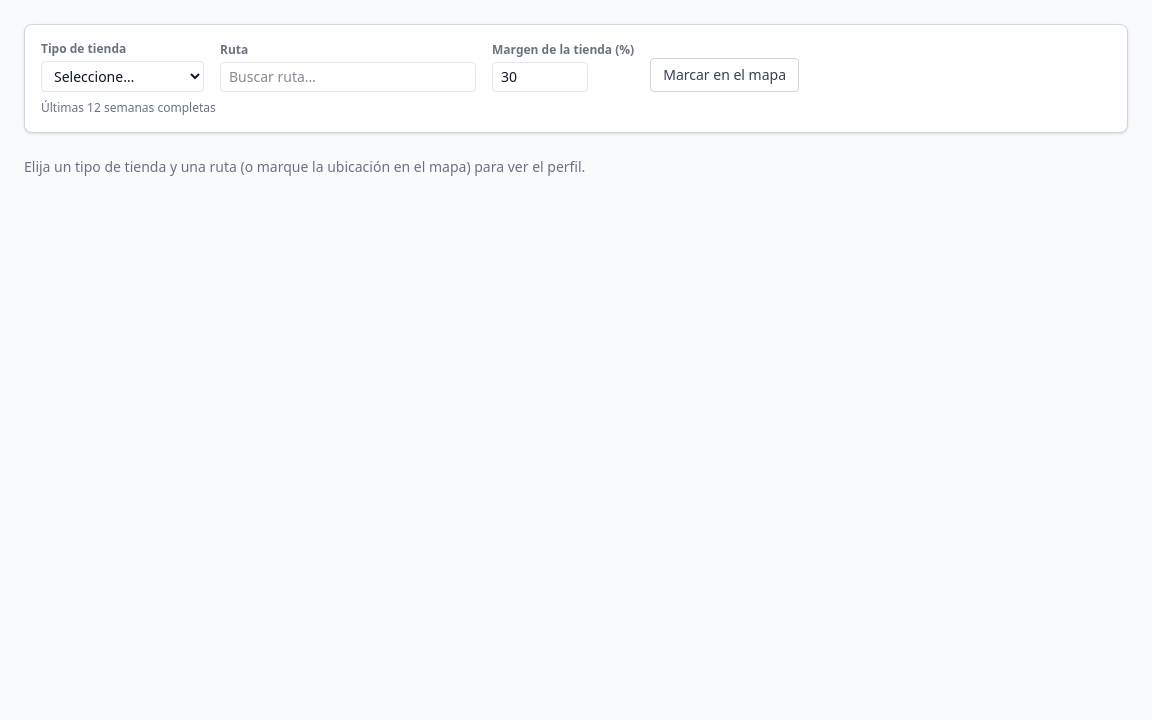
Test case: TabProspecto › shows low-peers, incomplete and no-route banners
Select "Supermercado (12)" in the dropdown labelled "Tipo de tienda" at (122, 76), box [41,61,204,92]
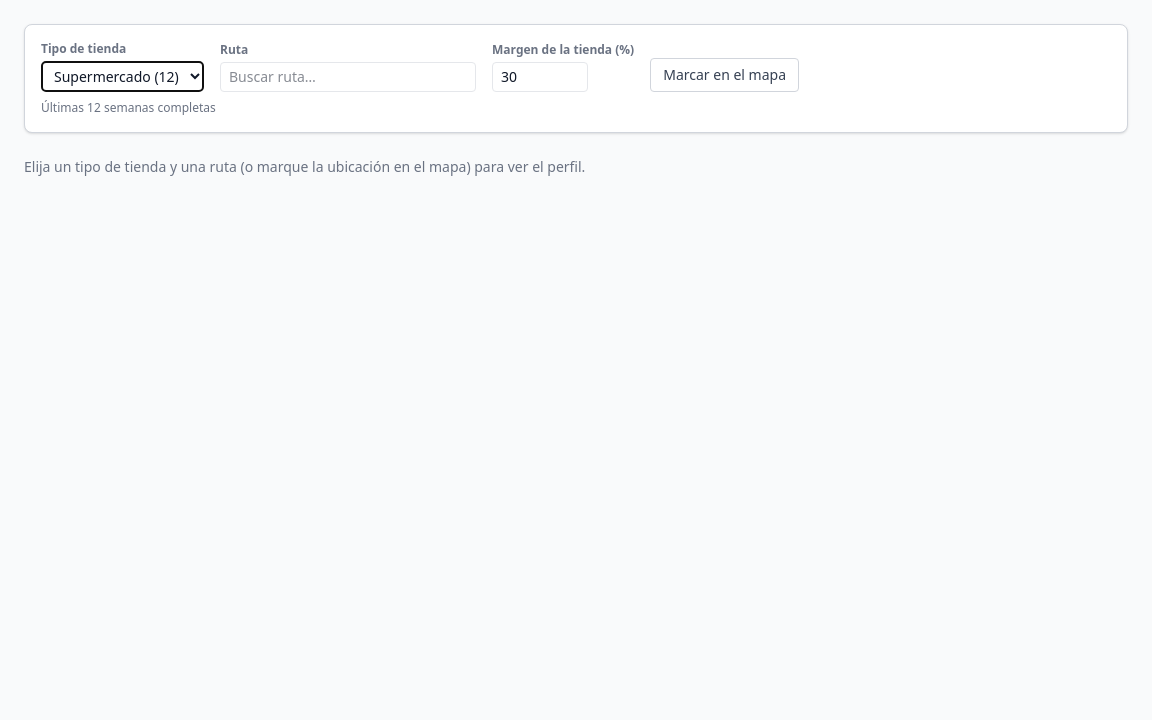
Click the field labelled "ruta" at (348, 77), box [220,62,476,92]
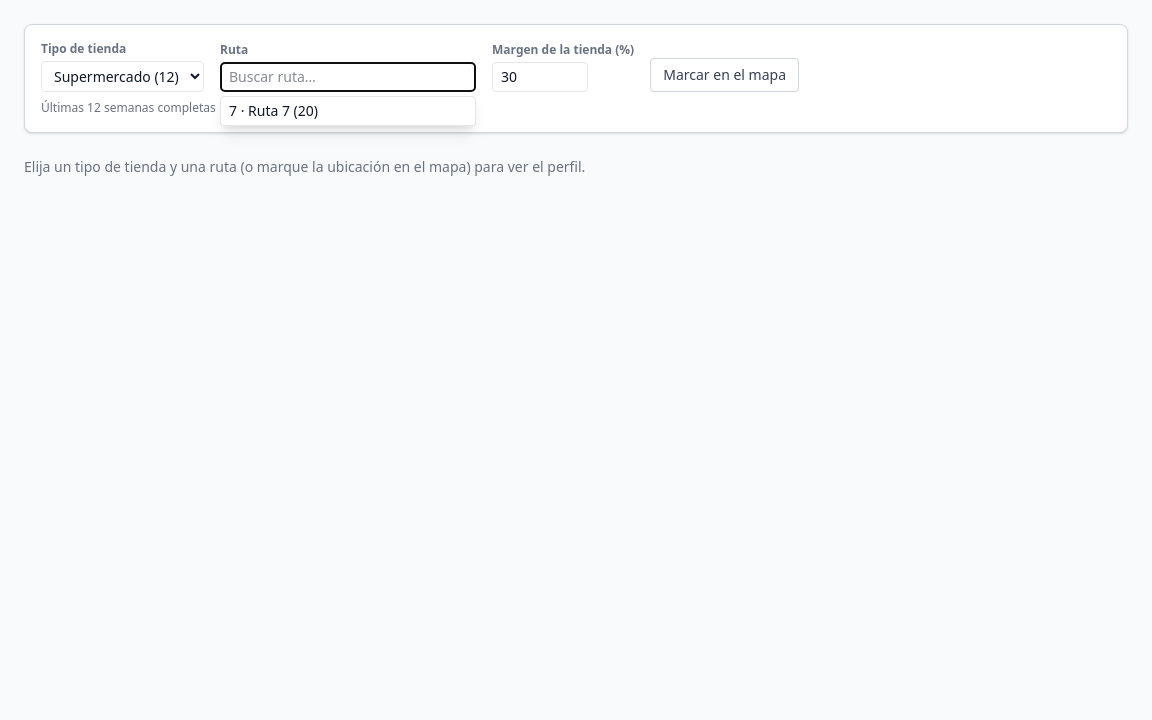
Click the button "7 · Ruta 7 (20)" at (348, 111), box [221,97,475,125]
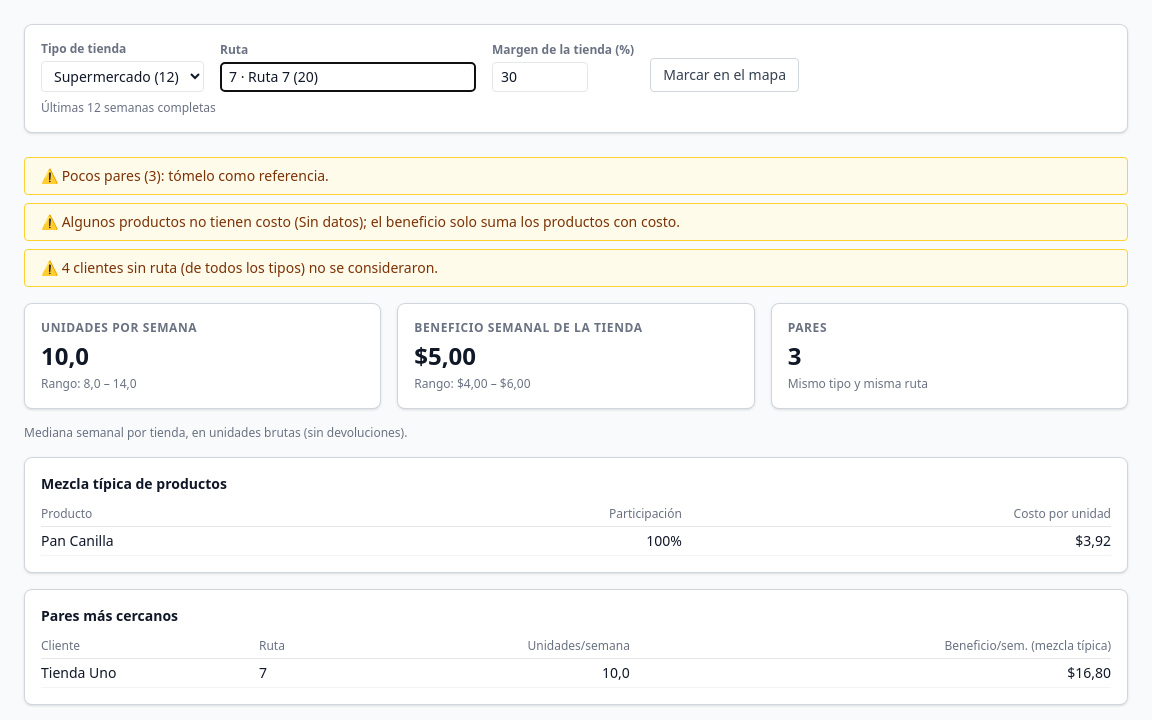
expect the text "⚠ Pocos pares (3): tómelo como referencia." is shown: met, box [24,157,1128,195]
expect the text "Algunos productos no tienen costo (Sin datos)" is shown: met, box [62,212,680,231]
expect the text "⚠ 4 clientes sin ruta (de todos los tipos) no se consideraron." is shown: met, box [24,249,1128,287]
